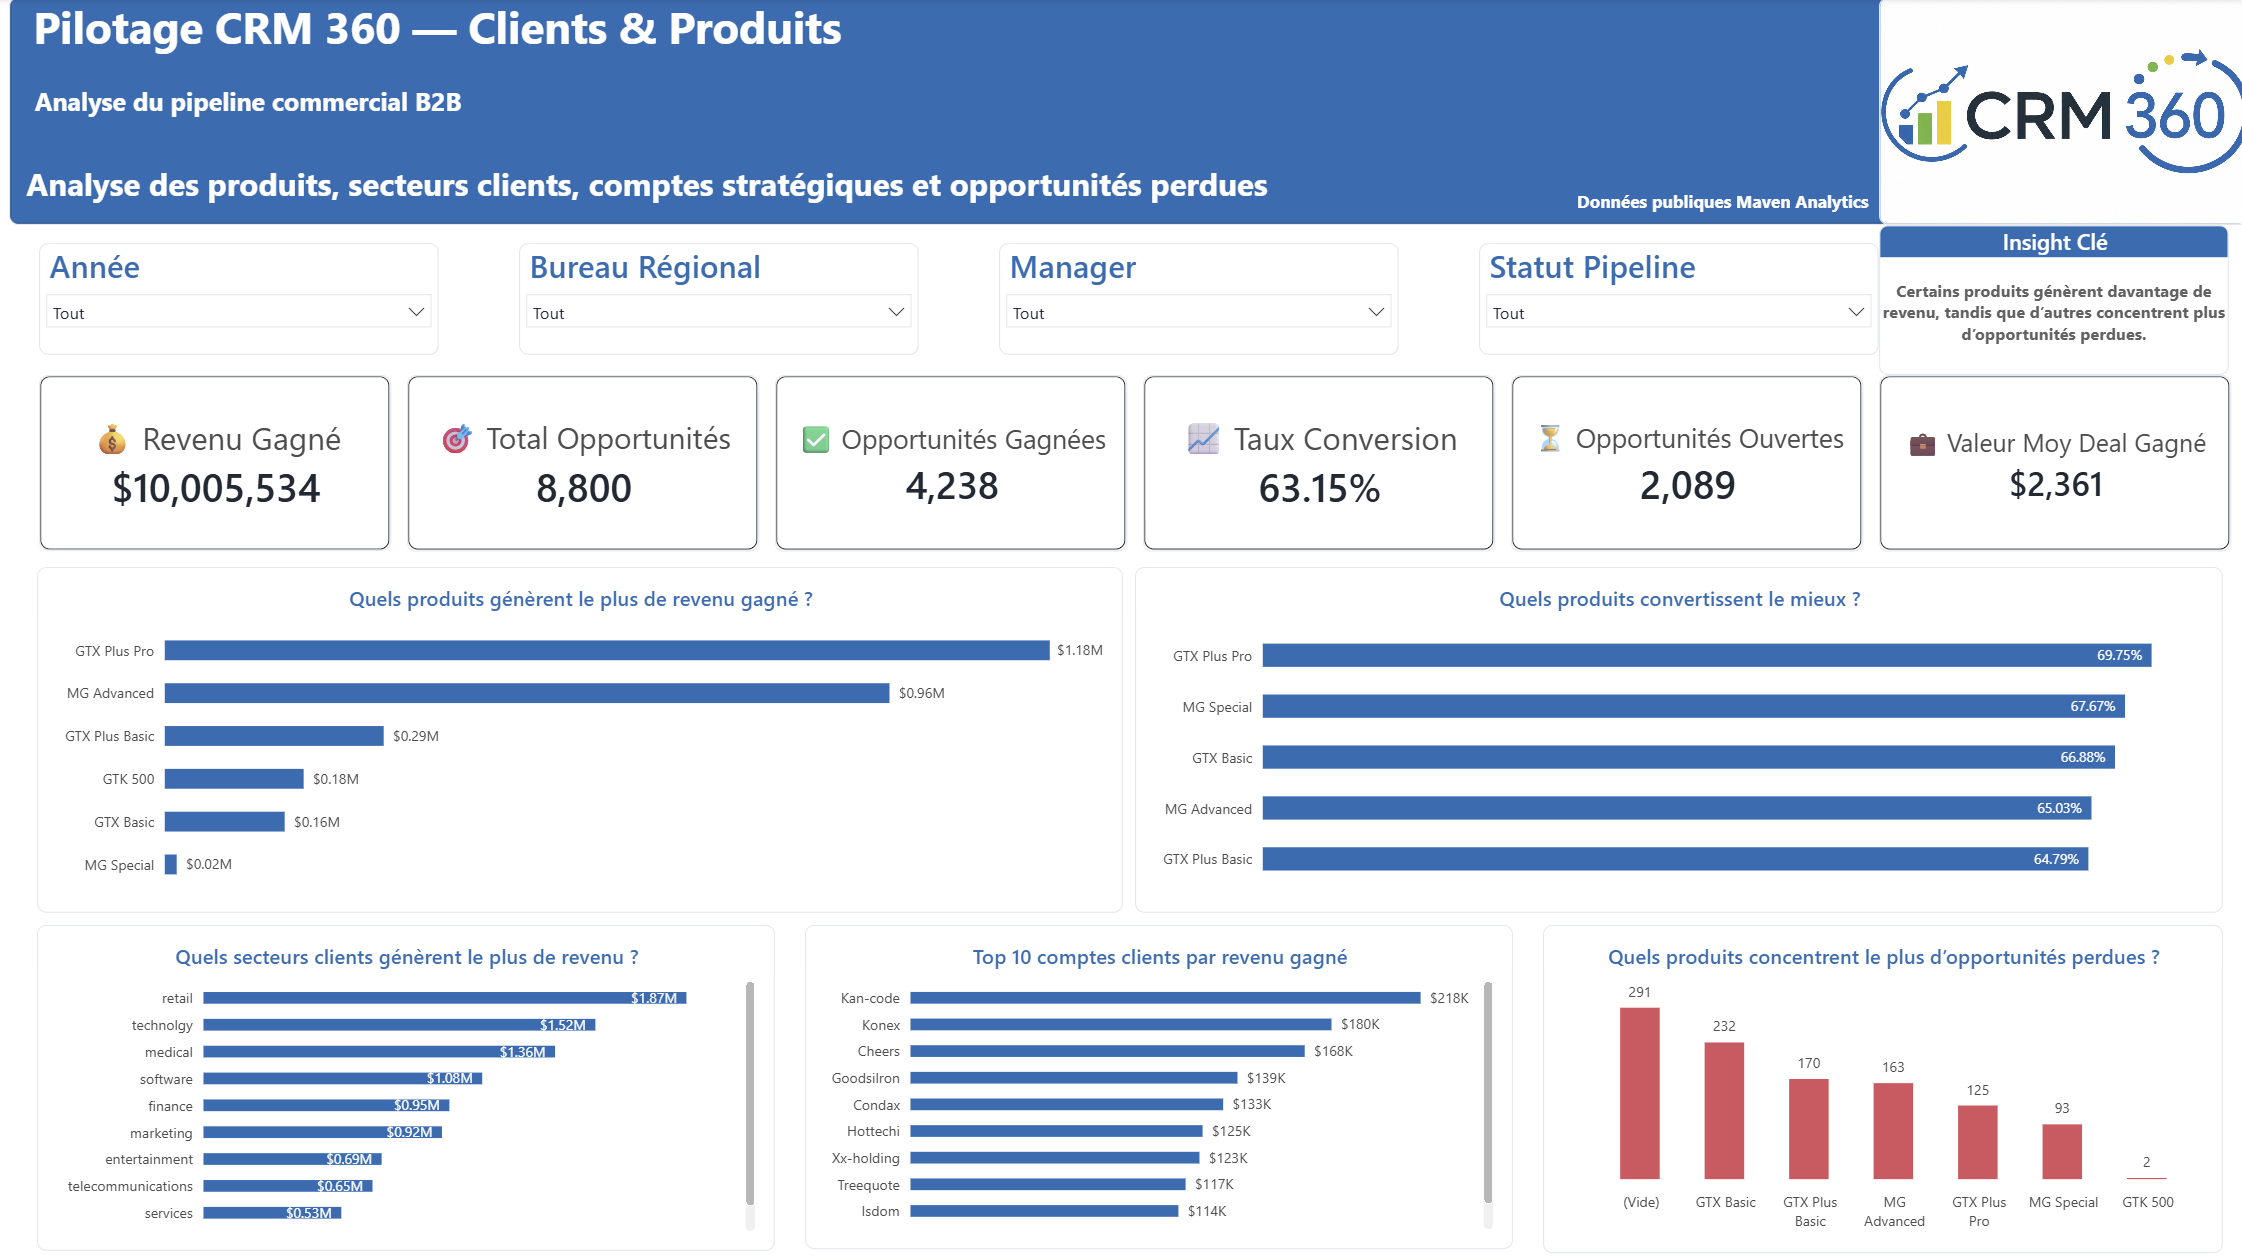

This screenshot's page, from the dashboard's own definition file:
{"tool":"powerbi","page":{"name":"Clients & produits","canvas":[1920,1080],"ordinal":2},"visuals":[{"type":"shape","box":[10.2,0,1909.2,194.5],"z":0},{"type":"image","box":[1605.5,0,319.1,194.5],"z":1000},{"type":"textbox","box":[10.2,0,1909.2,194.5],"z":2000},{"type":"textbox","box":[1347.9,163.8,571.6,61.4],"z":3000},{"type":"slicer","fields":{"Values":["Dim_Calendar.Année"]},"box":[35.8,209.9,341.2,95.5],"z":4000},{"type":"slicer","fields":{"Values":["Dim_Sales_Teams.regional_office"]},"box":[445.3,209.9,341.2,95.5],"z":5000},{"type":"slicer","fields":{"Values":["Dim_Sales_Teams.manager"]},"box":[854.8,209.9,341.2,95.5],"z":6000},{"type":"slicer","fields":{"Values":["Fact_Sales_Pipeline.Pipeline Status"]},"box":[1264.3,209.9,341.2,95.5],"z":7000},{"type":"cardVisual","fields":{"Data":["_Mesures.Revenu Gagné"]},"box":[35.8,322.3,300.3,150.1],"z":8000},{"type":"cardVisual","fields":{"Data":["_Mesures.Total Opportunités"]},"box":[349.6,322.3,300.6,150.3],"z":9000},{"type":"cardVisual","fields":{"Data":["_Mesures.Opportunités Gagnées"]},"box":[663.6,322.3,300.6,150.3],"z":10000},{"type":"cardVisual","fields":{"Data":["_Mesures.Taux Conversion"]},"box":[977.6,322.3,300.6,150.3],"z":11000},{"type":"cardVisual","fields":{"Data":["_Mesures.Opportunités Ouvertes"]},"box":[1291.6,322.3,300.6,150.3],"z":12000},{"type":"cardVisual","fields":{"Data":["_Mesures.Valeur Moyenne Deal Gagné"]},"box":[1605.6,322.3,300.6,150.3],"z":13000},{"type":"clusteredBarChart","title":"Quels produits génèrent le plus de revenu gagné ?","fields":{"Category":["Dim_Products.product"],"Y":["_Mesures.Revenu Gagné"]},"box":[34.1,486.3,926.4,295.2],"z":14000},{"type":"clusteredBarChart","title":"Quels produits convertissent le mieux ?","fields":{"Category":["Dim_Products.product"],"Y":["_Mesures.Taux Conversion"]},"box":[970.8,486.3,928.2,295.2],"z":15000},{"type":"clusteredBarChart","title":"Top 10 comptes clients par revenu gagné","fields":{"Category":["Dim_Accounts.account"],"Y":["_Mesures.Revenu Gagné"]},"box":[689.3,791.7,604,276.4],"z":16000},{"type":"columnChart","title":"Quels produits concentrent le plus d’opportunités perdues ?","fields":{"Category":["Dim_Products.product"],"Y":["_Mesures.Opportunités Perdues"]},"box":[1318.9,791.7,580.1,279.8],"z":17000},{"type":"clusteredBarChart","title":"Quels secteurs clients génèrent le plus de revenu ?","fields":{"Category":["Dim_Accounts.sector"],"Y":["_Mesures.Revenu Gagné"]},"box":[34.1,791.7,629.6,278.1],"z":18000},{"type":"textbox","title":"Insight Clé","box":[1605.5,194.5,298.6,128],"z":18001}]}

Visuals, with their boxes in screenshot pixels (x1, y1, x2, y2), scaled from the page's 1920x1080 canvas onto the 2242x1256 screenshot:
shape: (x1=12, y1=0, x2=2241, y2=226)
image: (x1=1875, y1=0, x2=2241, y2=226)
textbox: (x1=12, y1=0, x2=2241, y2=226)
textbox: (x1=1574, y1=190, x2=2241, y2=262)
slicer - Dim_Calendar.Année: (x1=42, y1=244, x2=440, y2=355)
slicer - Dim_Sales_Teams.regional_office: (x1=520, y1=244, x2=918, y2=355)
slicer - Dim_Sales_Teams.manager: (x1=998, y1=244, x2=1397, y2=355)
slicer - Fact_Sales_Pipeline.Pipeline Status: (x1=1476, y1=244, x2=1875, y2=355)
cardVisual - _Mesures.Revenu Gagné: (x1=42, y1=375, x2=392, y2=549)
cardVisual - _Mesures.Total Opportunités: (x1=408, y1=375, x2=759, y2=550)
cardVisual - _Mesures.Opportunités Gagnées: (x1=775, y1=375, x2=1126, y2=550)
cardVisual - _Mesures.Taux Conversion: (x1=1142, y1=375, x2=1493, y2=550)
cardVisual - _Mesures.Opportunités Ouvertes: (x1=1508, y1=375, x2=1859, y2=550)
cardVisual - _Mesures.Valeur Moyenne Deal Gagné: (x1=1875, y1=375, x2=2226, y2=550)
"Quels produits génèrent le plus de revenu gagné ?" clusteredBarChart: (x1=40, y1=566, x2=1122, y2=909)
"Quels produits convertissent le mieux ?" clusteredBarChart: (x1=1134, y1=566, x2=2217, y2=909)
"Top 10 comptes clients par revenu gagné" clusteredBarChart: (x1=805, y1=921, x2=1510, y2=1242)
"Quels produits concentrent le plus d’opportunités perdues ?" columnChart: (x1=1540, y1=921, x2=2217, y2=1246)
"Quels secteurs clients génèrent le plus de revenu ?" clusteredBarChart: (x1=40, y1=921, x2=775, y2=1244)
"Insight Clé" textbox: (x1=1875, y1=226, x2=2223, y2=375)
